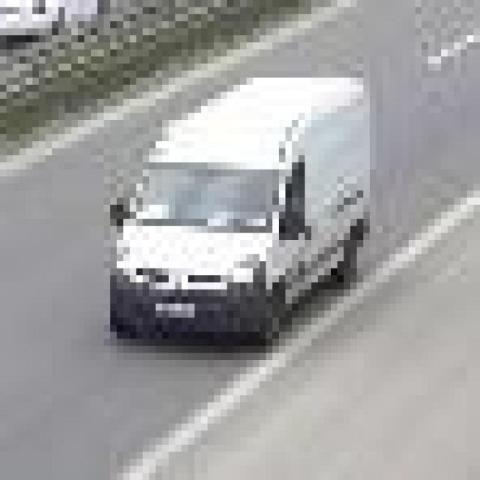van: (110, 78, 370, 346)
